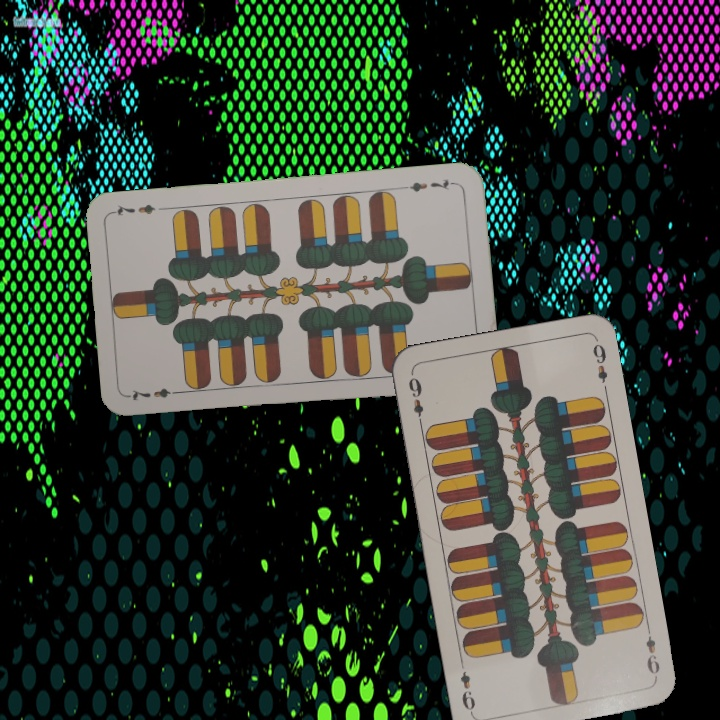E7: (399, 175, 458, 195), (126, 384, 185, 403)
E9: (404, 370, 426, 429), (641, 623, 663, 682)
